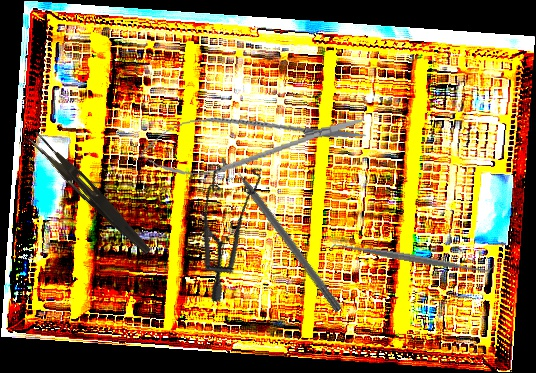Dressing Forceps: (23, 130, 158, 257)
Micro Scissor: (136, 97, 369, 185)
Pusher: (222, 152, 345, 313)
Spatula Surgical: (329, 234, 496, 282)
Speculum: (168, 146, 300, 306)
